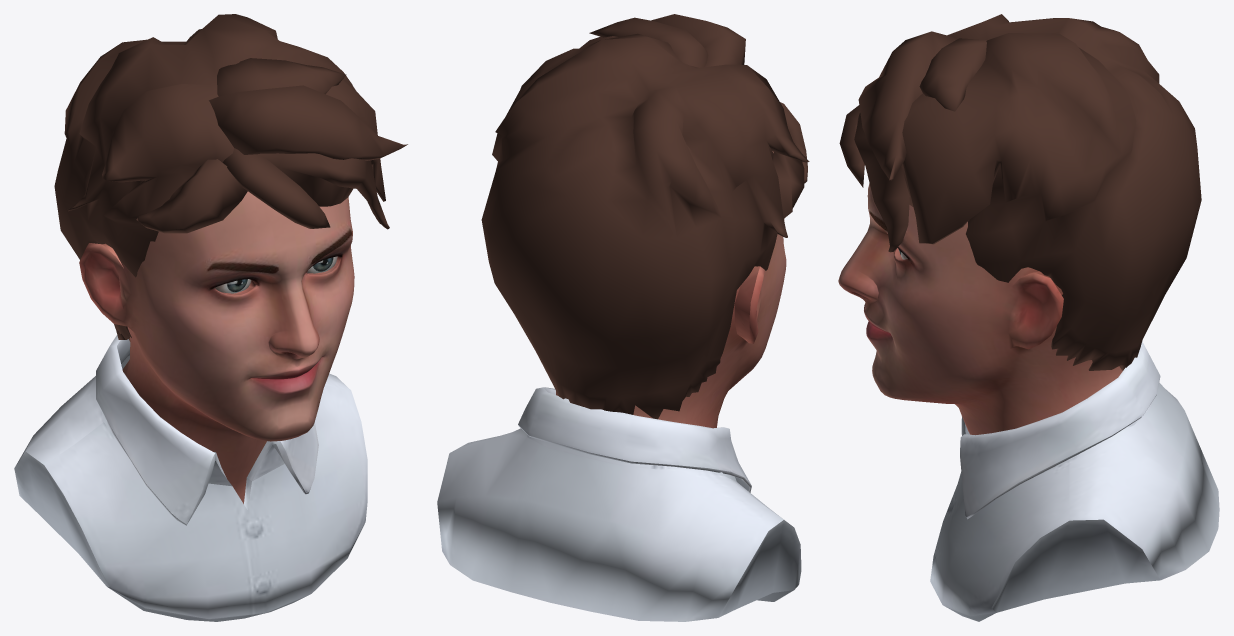
The model's file is 3d-avatar-test.glb.
3 views of the same model, side by side, from view 1: azimuth 30°, elevation 25°; view 2: azimuth 150°, elevation 25°; view 3: azimuth 270°, elevation 25° (orthographic). The views are drawn at different scales.
Visible parts, largest first — view 1: Wolf3D_Shirt, Wolf3D_Hair, Wolf3D_Head; view 2: Wolf3D_Hair, Wolf3D_Shirt, Wolf3D_Head; view 3: Wolf3D_Hair, Wolf3D_Shirt, Wolf3D_Head.
Boxes of the visible parts, x1,y1,x2,y2 form: Wolf3D_Shirt: [14, 335, 367, 621]; Wolf3D_Hair: [54, 14, 407, 341]; Wolf3D_Head: [79, 191, 354, 503]; Wolf3D_Hair: [481, 14, 809, 419]; Wolf3D_Shirt: [437, 387, 801, 621]; Wolf3D_Head: [556, 151, 786, 428]; Wolf3D_Hair: [839, 14, 1201, 370]; Wolf3D_Shirt: [930, 341, 1219, 621]; Wolf3D_Head: [838, 183, 1122, 435].
Bounding box in the file's own units: 0.0231 × 0.0393 × 0.0242.
5 materials, 5 textured.
